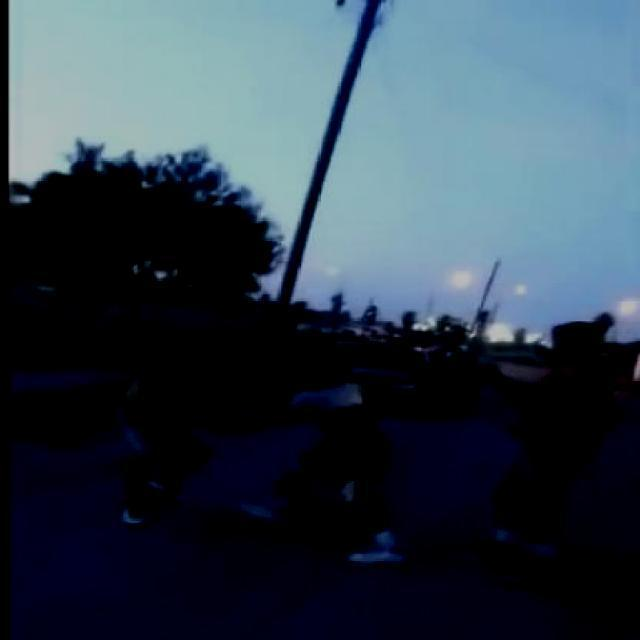fight: (107, 354, 396, 542)
